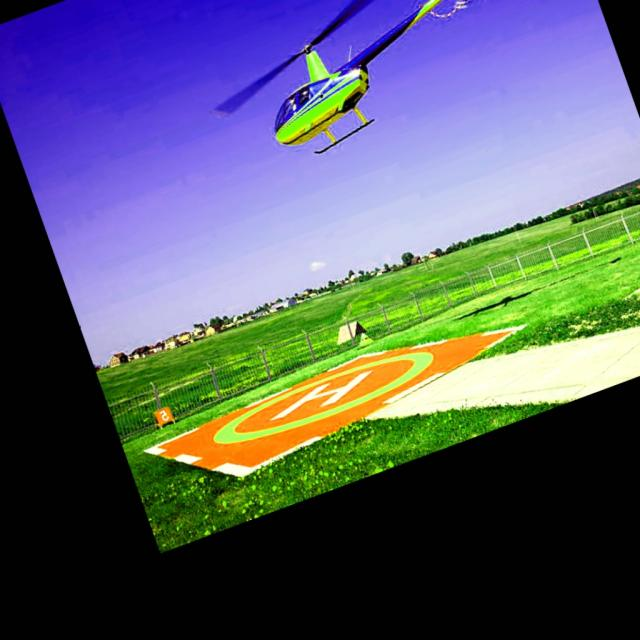helipad: (209, 349, 436, 446)
